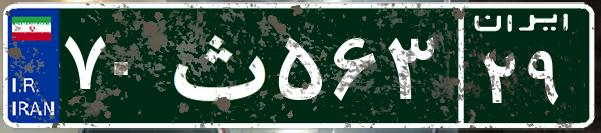0: (110, 28, 158, 105)
2: (475, 38, 525, 113)
3: (385, 28, 445, 110)
5: (273, 28, 330, 110)
6: (330, 28, 385, 110)
7: (57, 26, 110, 107)
9: (525, 38, 570, 115)
ث: (158, 15, 273, 115)
